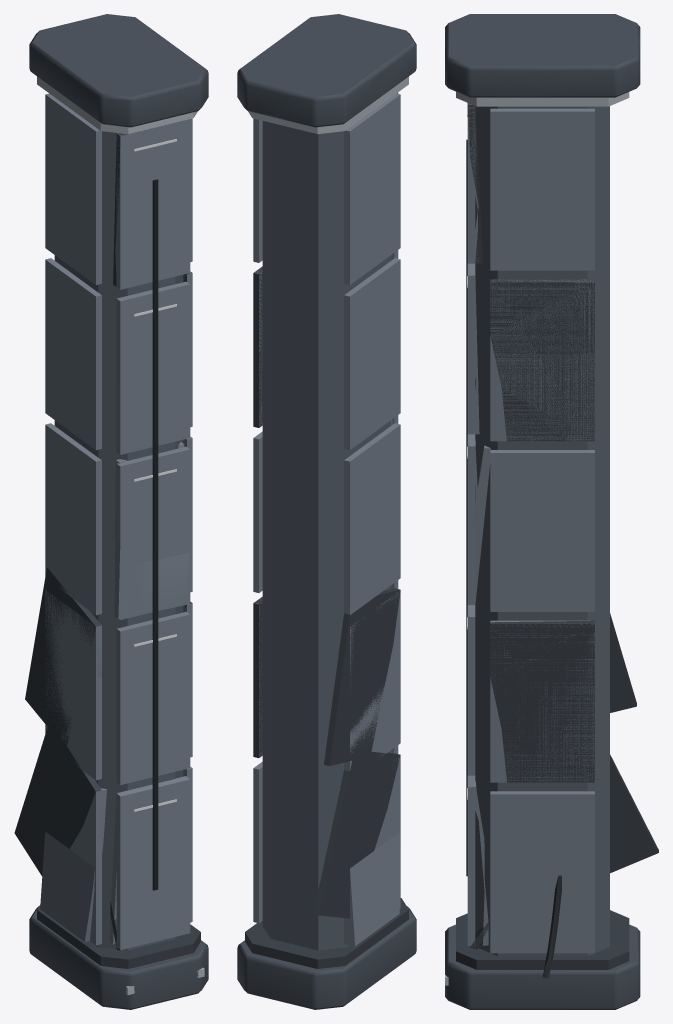
File: hlx_cmp_support_column_c.glb
3 views of the same model, side by side, from view 1: azimuth 30°, elevation 25°; view 2: azimuth 150°, elevation 25°; view 3: azimuth 270°, elevation 25° (orthographic). The views are drawn at different scales.
Parts seen in each view (by area): view 1: mesh_intact, mesh_heavy, mesh_light; view 2: mesh_heavy, mesh_light, mesh_intact; view 3: mesh_heavy, mesh_intact, mesh_light.
Part boxes in pixels (x1,y1,x2,y2): mesh_intact: [45, 93, 204, 977]; mesh_heavy: [14, 14, 208, 1009]; mesh_light: [30, 14, 204, 948]; mesh_heavy: [237, 14, 416, 1009]; mesh_light: [241, 14, 415, 949]; mesh_intact: [253, 92, 400, 945]; mesh_heavy: [445, 14, 658, 1009]; mesh_intact: [445, 103, 594, 985]; mesh_light: [445, 14, 640, 956].
Size of the model in its own units: 0.3488 by 2.4 by 0.4929.
